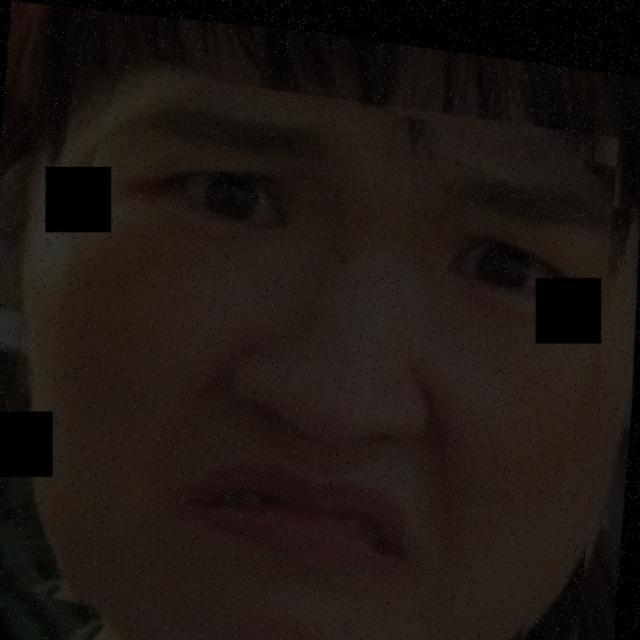Disgust: (53, 69, 629, 603)
